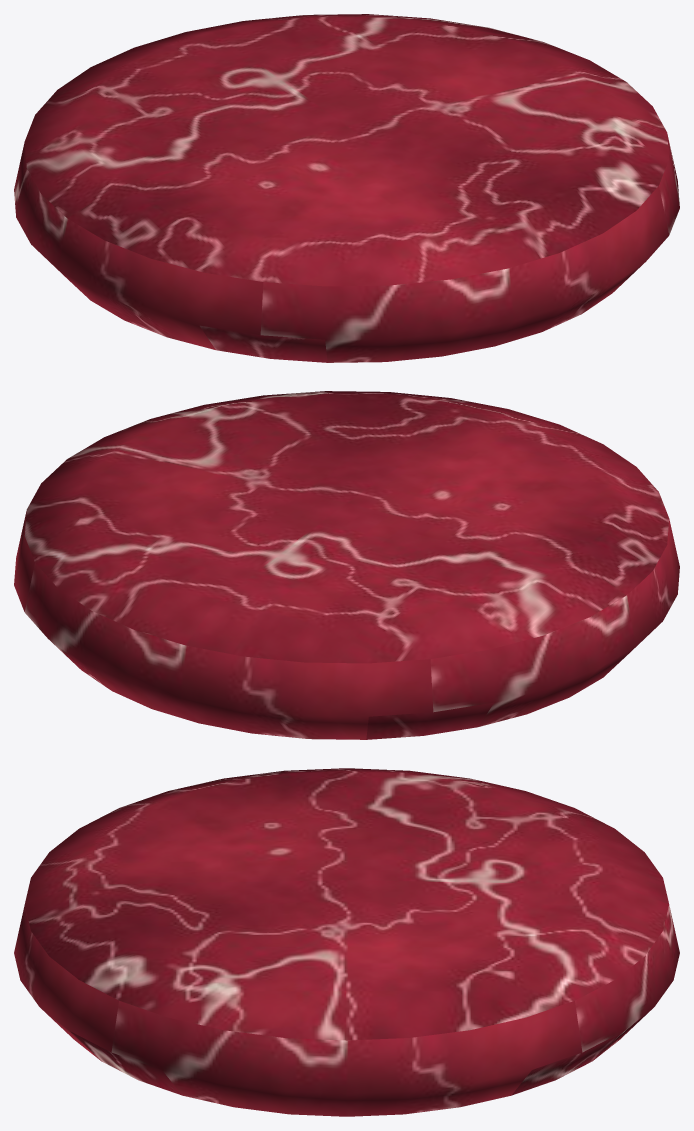
Rendered from PattyRaw.glb.
The picture shows the model from 3 angles, top to bottom: view 1: azimuth 30°, elevation 25°; view 2: azimuth 150°, elevation 25°; view 3: azimuth 270°, elevation 25°; orthographic projection.
Visible parts, largest first — view 1: PattyRaw_Body; view 2: PattyRaw_Body; view 3: PattyRaw_Body.
Part boxes in pixels (left/top/right/bottom): PattyRaw_Body: left=14, top=14, right=679, bottom=362; PattyRaw_Body: left=14, top=391, right=679, bottom=739; PattyRaw_Body: left=14, top=768, right=679, bottom=1116.
Size of the model in its own units: 0.124 by 0.023 by 0.124.
Materials: 1 (1 with a texture image).
